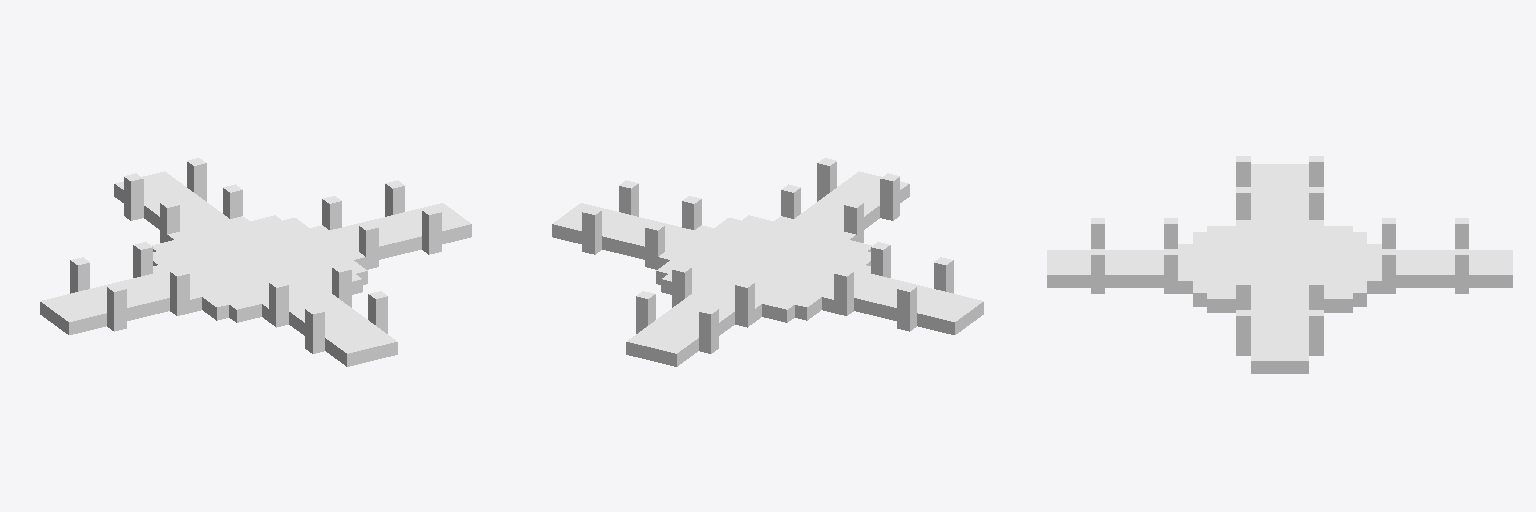
The model's file is crossroad2.obj.
3 views of the same model, side by side, from view 1: azimuth 30°, elevation 25°; view 2: azimuth 150°, elevation 25°; view 3: azimuth 270°, elevation 25° (orthographic).
Visible parts, largest first — view 1: object 1; view 2: object 1; view 3: object 1.
Boxes of the visible parts, x1=… form: object 1: x1=40, y1=158, x2=471, y2=366; object 1: x1=552, y1=158, x2=983, y2=366; object 1: x1=1047, y1=156, x2=1512, y2=373.
Bounding box in the file's own units: 3.2 × 0.3 × 3.2.